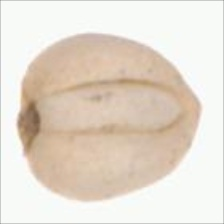L5: (38, 76, 187, 140), (13, 81, 45, 161), (179, 74, 204, 145)
L6: (15, 29, 205, 205)
